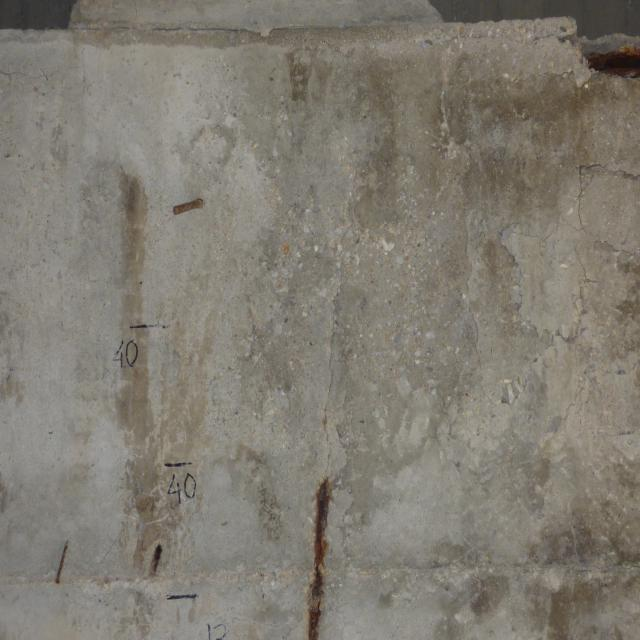corrosion: (301, 467, 341, 640), (572, 40, 640, 85), (166, 188, 219, 221), (51, 532, 80, 590), (145, 533, 169, 583)
